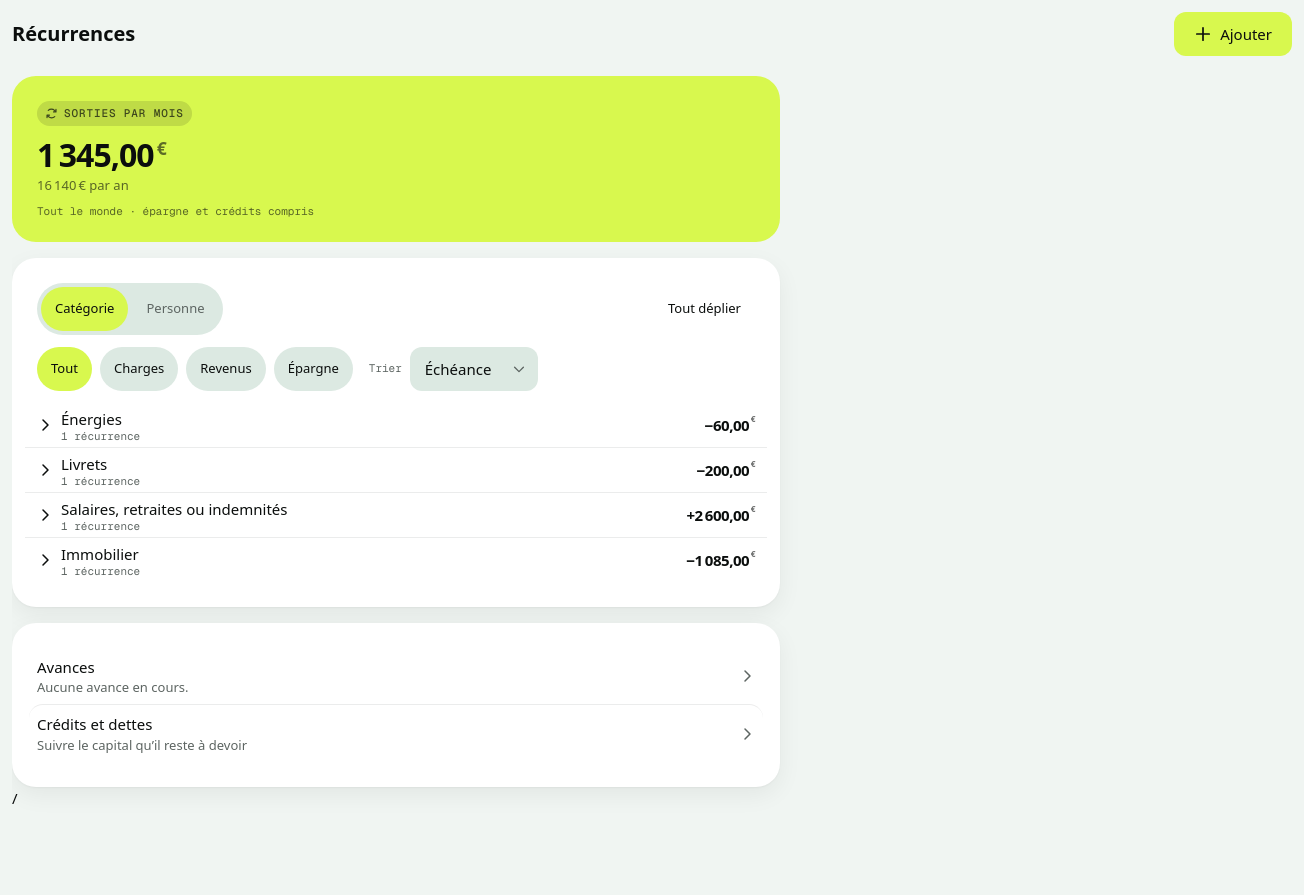
Test: RecurrencesPage › les groupes › sont repliés au chargement, et « Tout déplier » dit ensuite l’inverse
Expected: the button "Loyer" is not shown
Click the button "Tout déplier": x=704, y=309 [654,287,755,331]
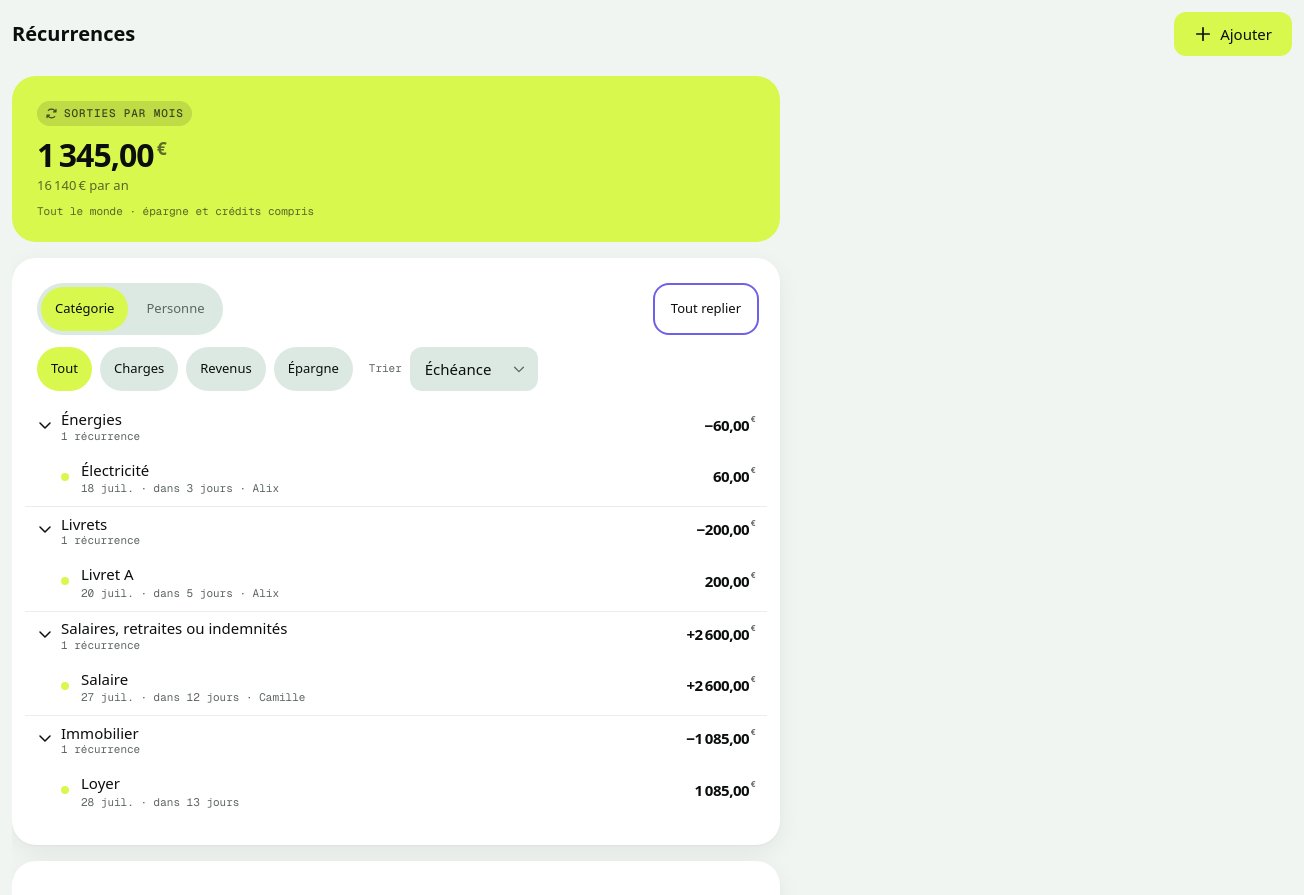
Result: the button "Loyer 28 juil. · dans 13 jours 1 085,00 €" is shown at [49,760,767,820]
Result: the button "Tout replier" is shown at [657,287,755,331]
